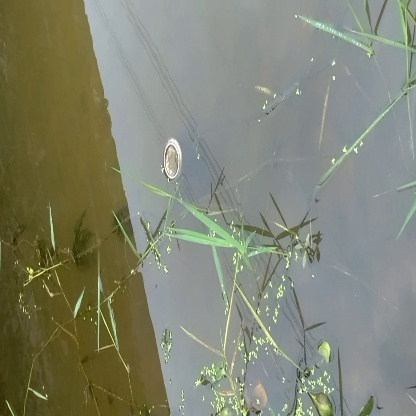bottle: (156, 131, 188, 186)
